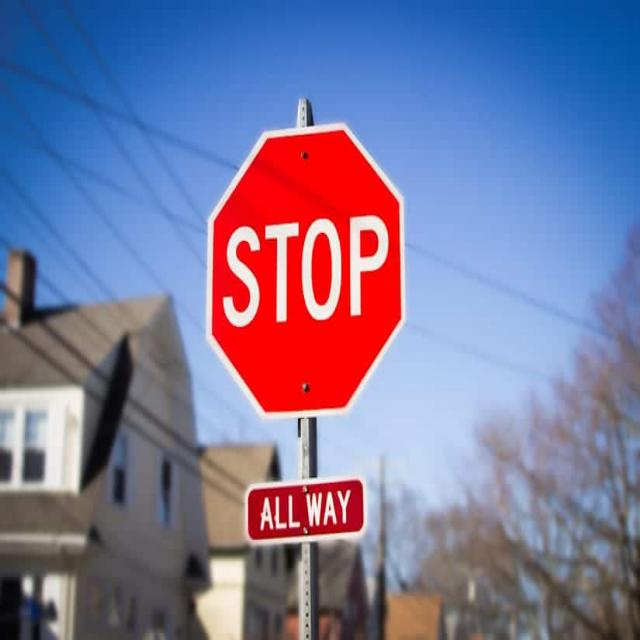stop-sign: (210, 139, 407, 396)
